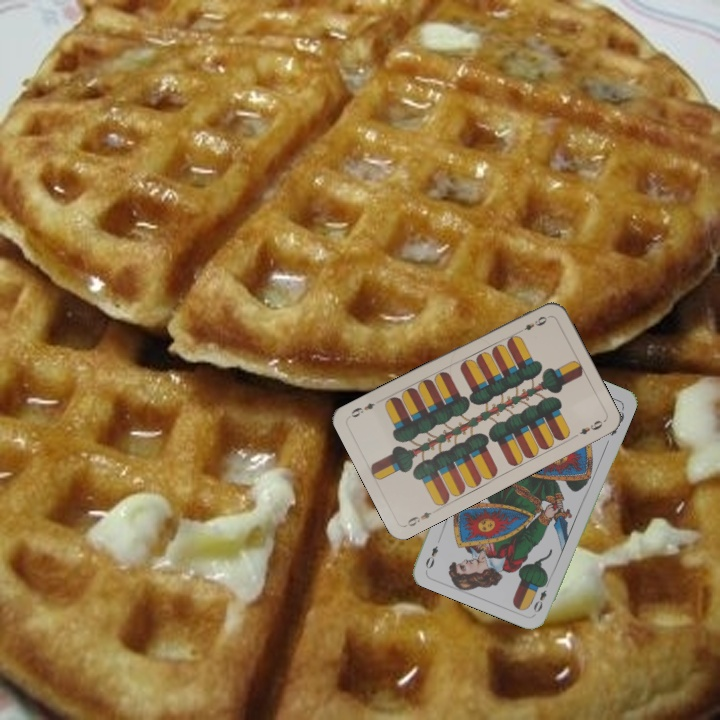E9: (514, 312, 552, 336), (403, 505, 440, 529)
EO: (529, 577, 552, 615)
